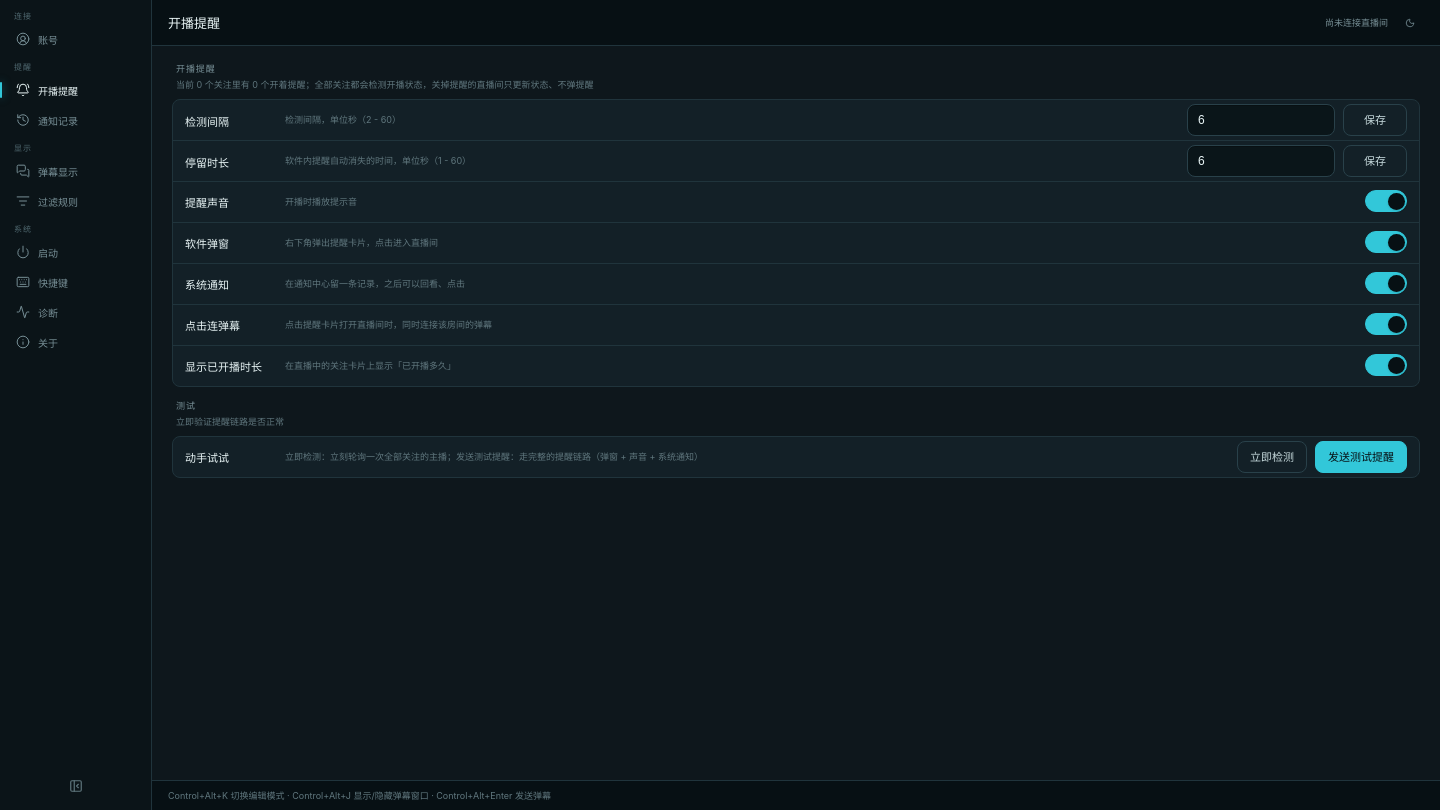
Test: reports display config save failure without changing the selected flow
Click the button "弹幕显示" at [76, 171], box [8,157,143,185]
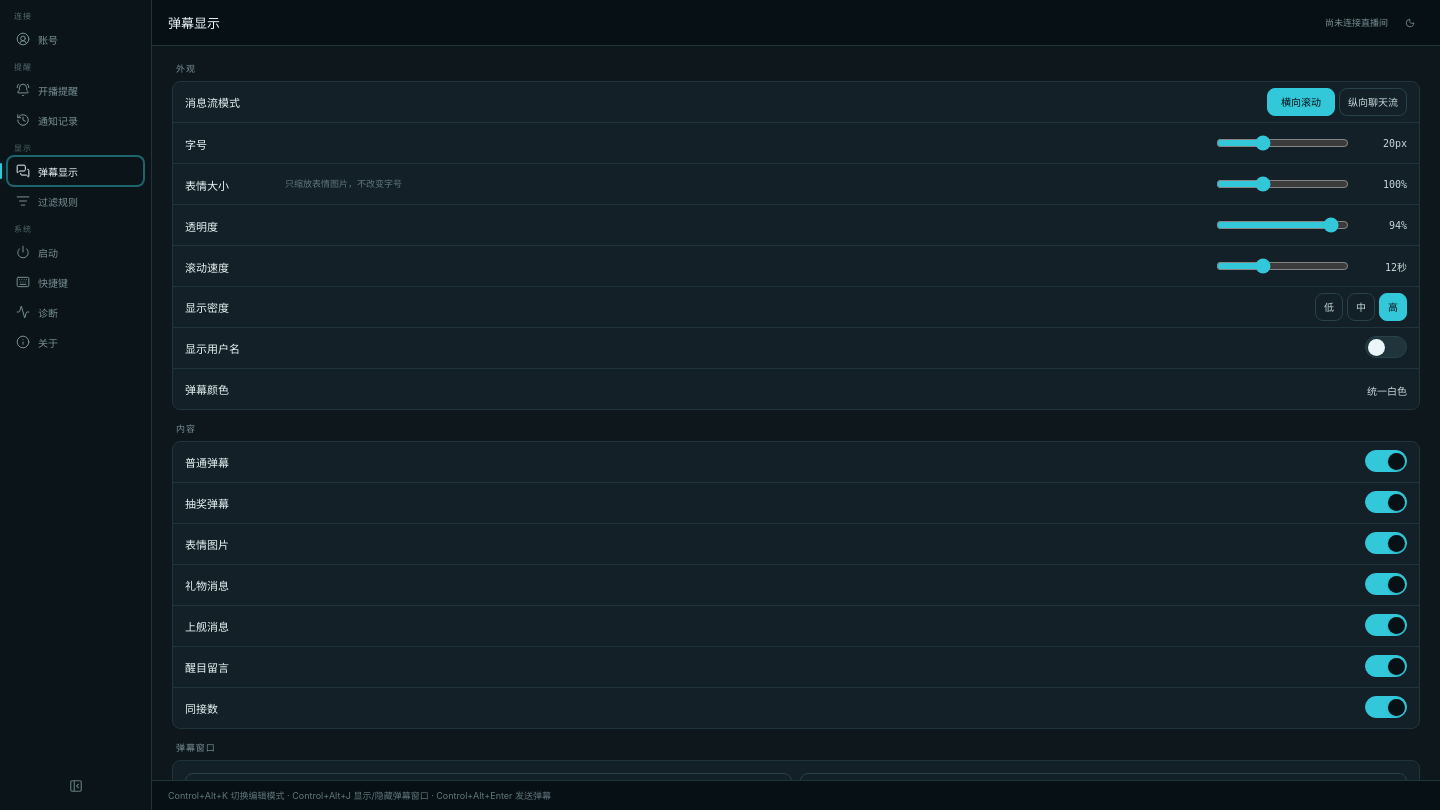
Click the button "纵向聊天流" at [1373, 102], box [1339,88,1407,116]
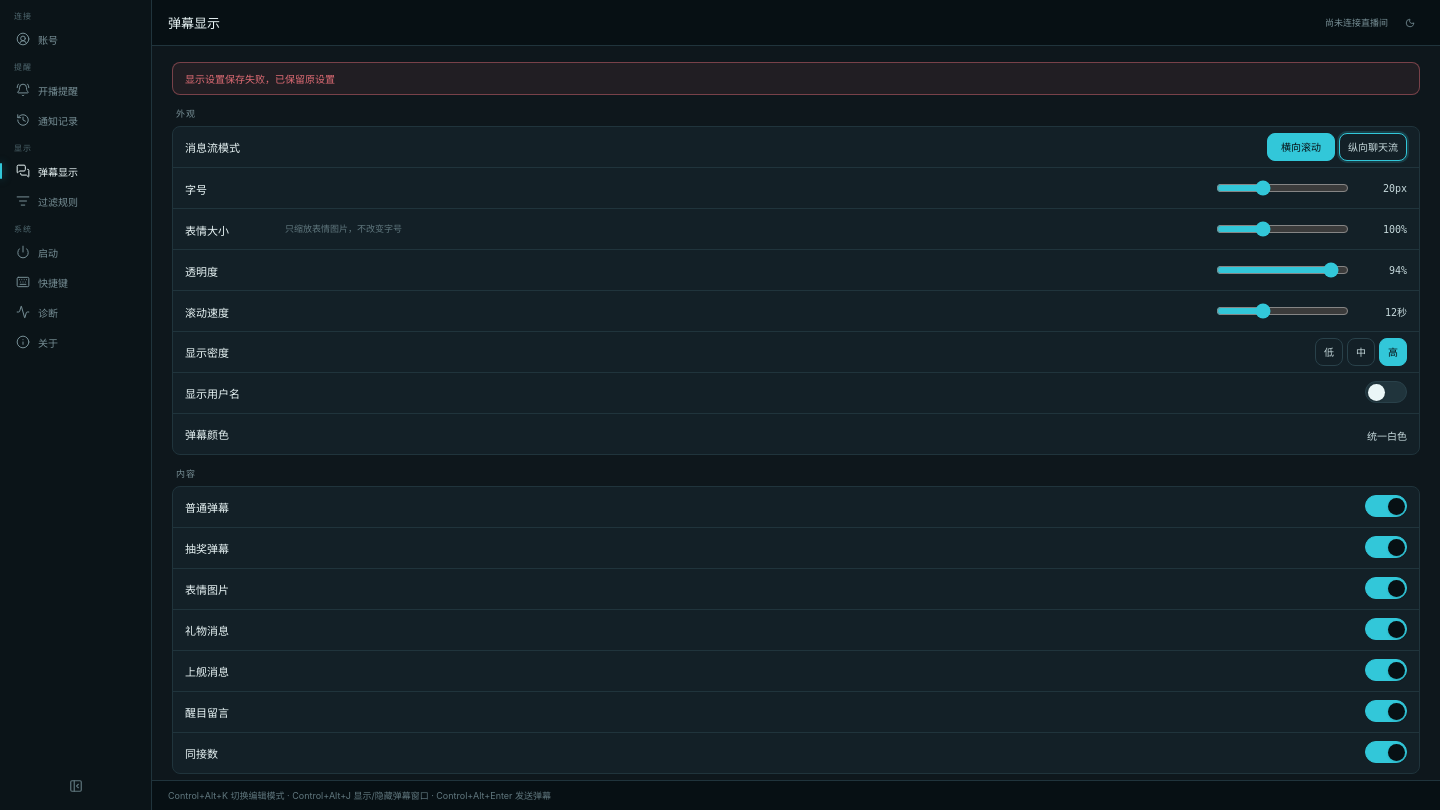
expect the message reads "显示设置保存失败，已保留原设置": met, box [185,73,335,85]
